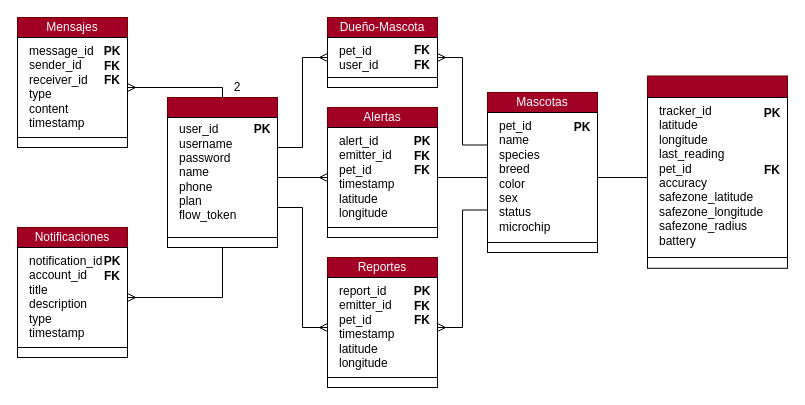
Image size: 805x405. Some labels were removed from this diagram. Each missing label, with the centre of its shape:
"Rastreadores" goes at point (717, 86).
"Usuarios" goes at point (222, 107).
